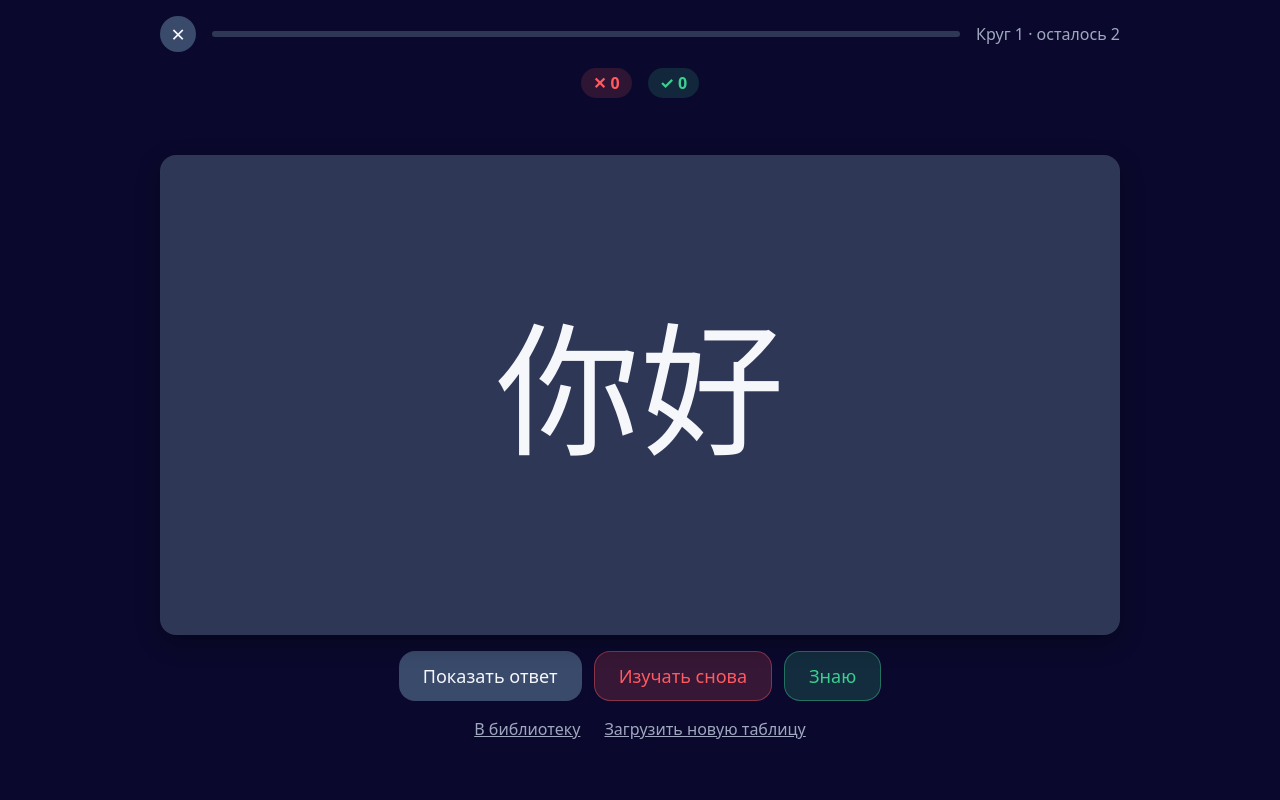
Scenario: TrainingScreen › новая карточка показывается лицевой стороной
Click the button "Показать ответ": [490, 676] box [399, 651, 582, 701]
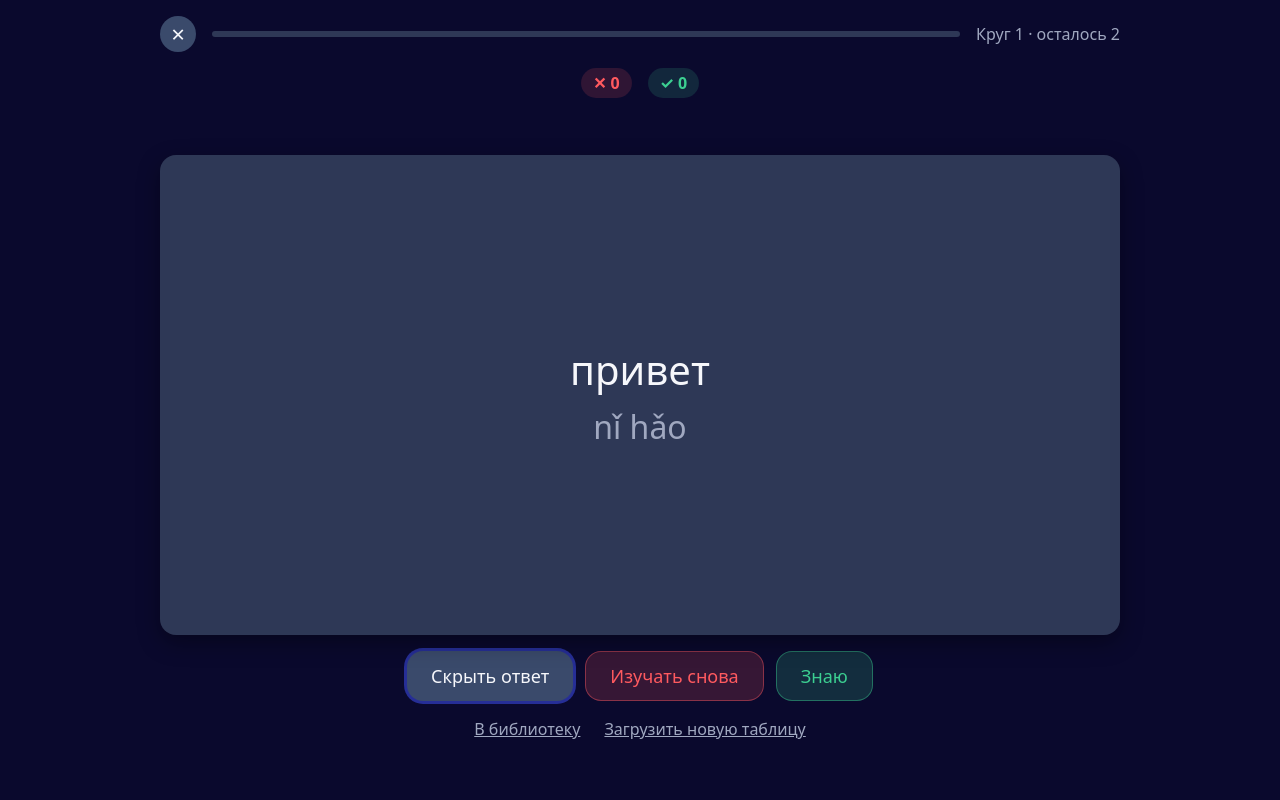
Check: the text "привет" is shown, box [570, 342, 710, 397]
Click the button "Знаю": [824, 676] box [776, 651, 873, 701]
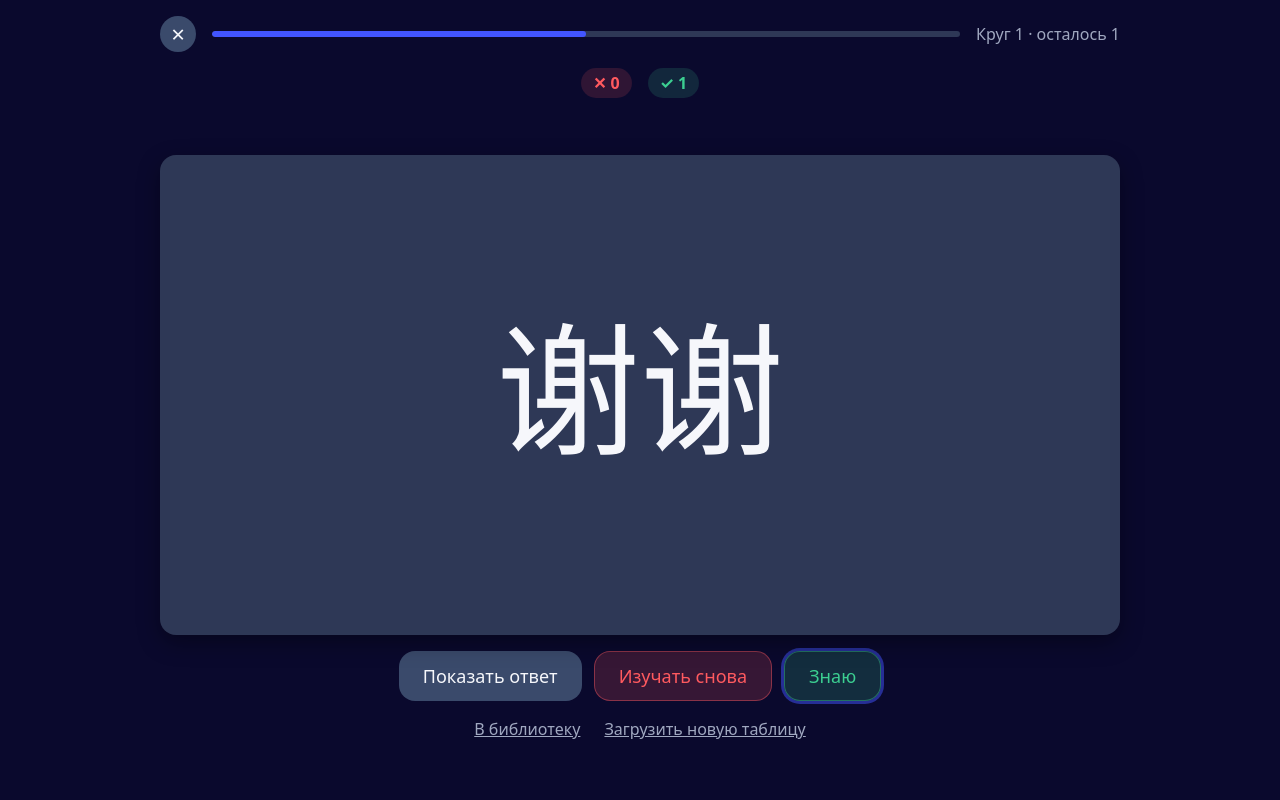
Check: the text "谢谢" is shown, box [496, 316, 784, 474]
